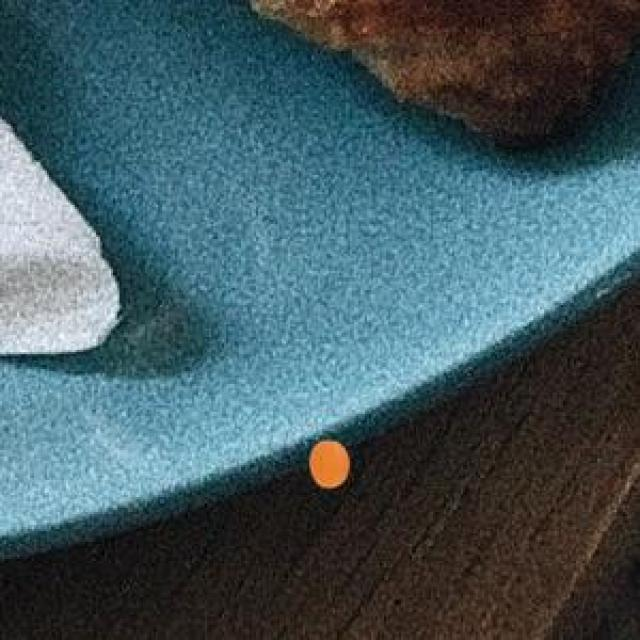Bactidol: (302, 427, 362, 505)
